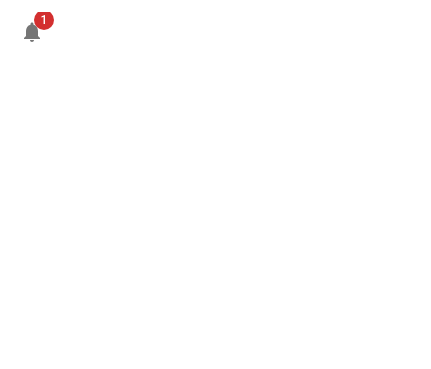
it: NotificationBell › lists recent notifications when opened, and refreshes the possibly-stale list
Click the button named "notifications".
click(32, 32)  # box top-left (12, 12), bottom-right (52, 52)
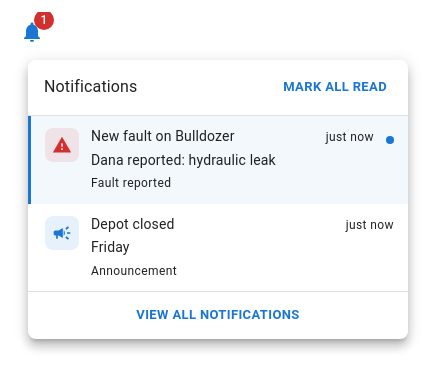
Result: the text "New fault on Bulldozer" is shown at top-left (91, 128), bottom-right (235, 144)
Result: the text "Depot closed" is shown at top-left (91, 216), bottom-right (175, 232)
